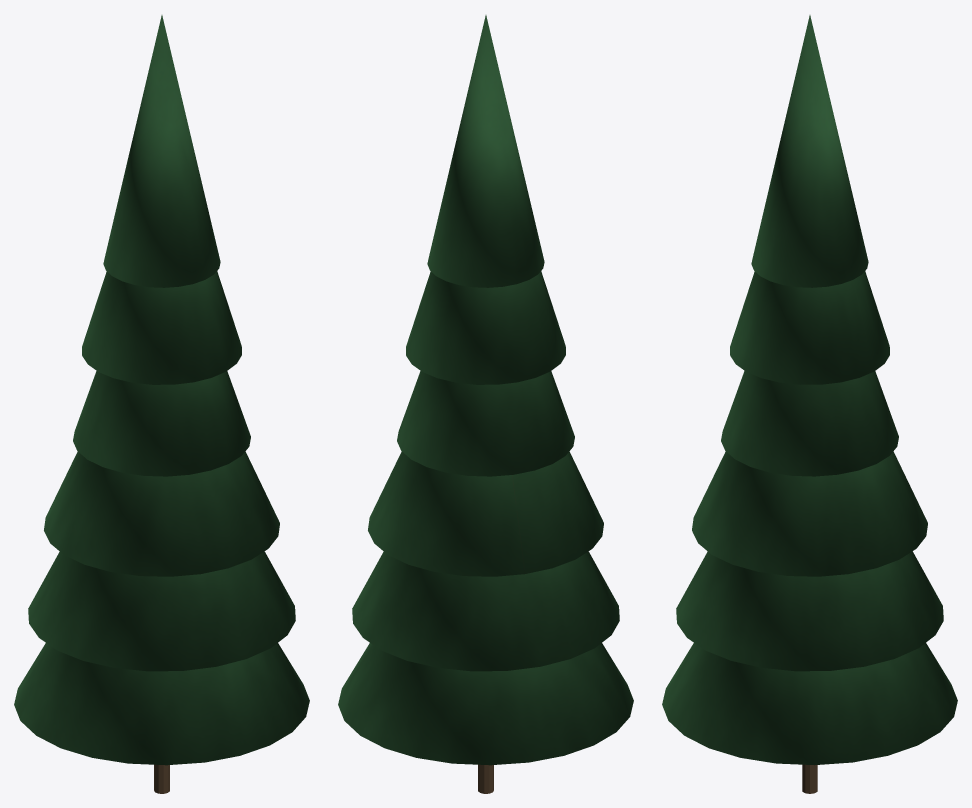
File: pv_strom_jehlic.glb
3 views of the same model, side by side, from view 1: azimuth 30°, elevation 25°; view 2: azimuth 150°, elevation 25°; view 3: azimuth 270°, elevation 25° (orthographic).
Visible parts, largest first — view 1: dum; view 2: dum; view 3: dum.
Boxes of the visible parts, x1,y1,x2,y2 form: dum: (14,15,309,793); dum: (338,15,633,793); dum: (662,15,957,793).
Bounding box in the file's own units: 0.3453 × 1 × 0.3453.
Materials: 1 (1 with a texture image).
